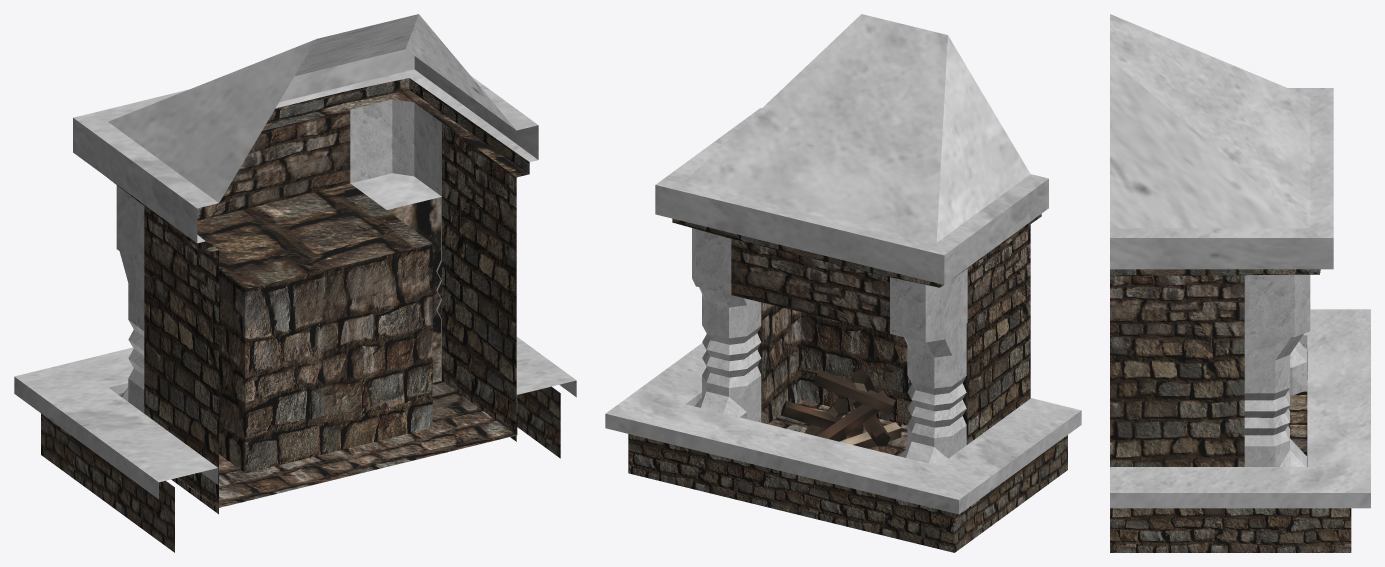
Rendered from Fireplace.fbx.
The picture shows the model from 3 angles, left to right: view 1: azimuth 30°, elevation 25°; view 2: azimuth 150°, elevation 25°; view 3: azimuth 270°, elevation 25°; orthographic projection. The views are drawn at different scales.
Visible parts, largest first — view 1: fireplace; view 2: fireplace; view 3: fireplace.
Boxes of the visible parts, box(x1,y1,x2,y2) form: fireplace: box(14, 14, 576, 552); fireplace: box(605, 14, 1081, 552); fireplace: box(1110, 14, 1370, 552).
Size of the model in its own units: 172 by 189 by 103.
2 materials, 2 textured.
